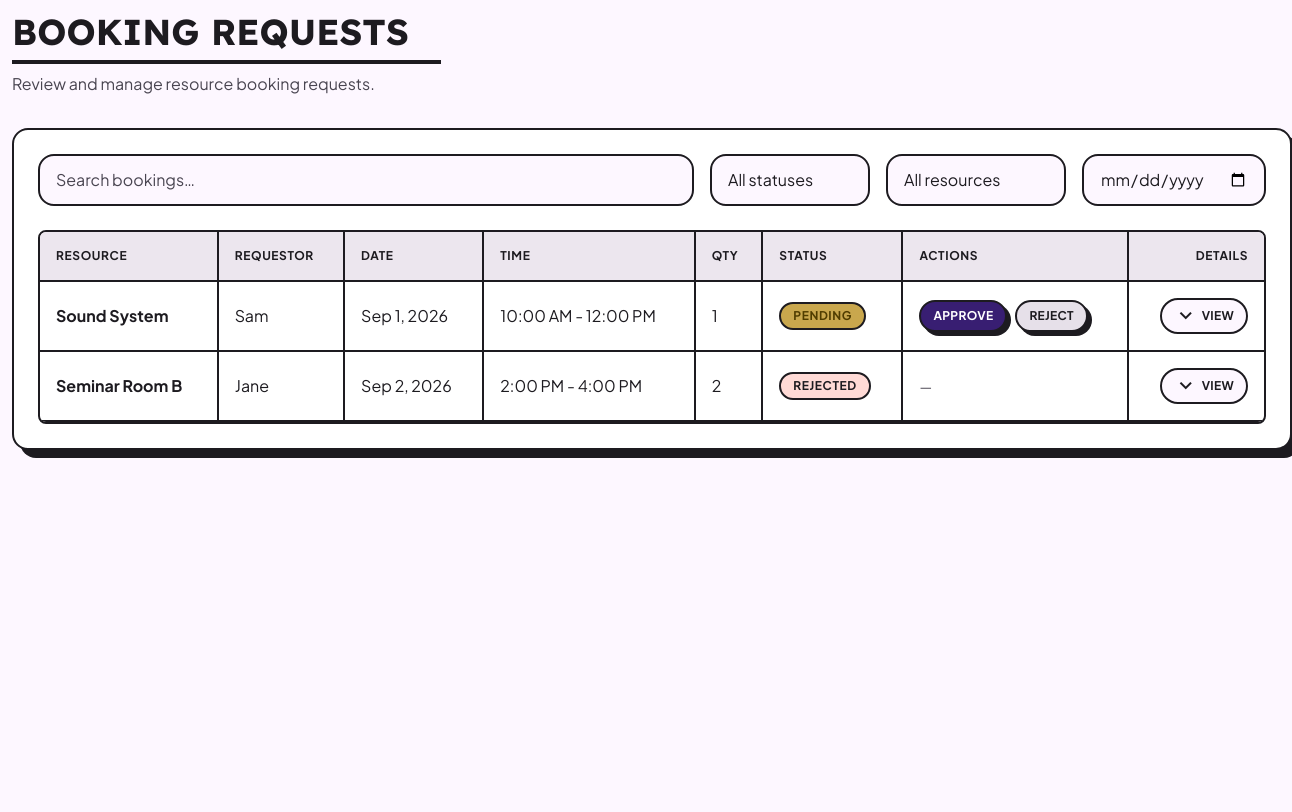
AdminBookingsPage › expands a row to show requestor and booking details
Click the button "View" in the row of "Sound System" at (1204, 316), box [1160,298,1248,334]
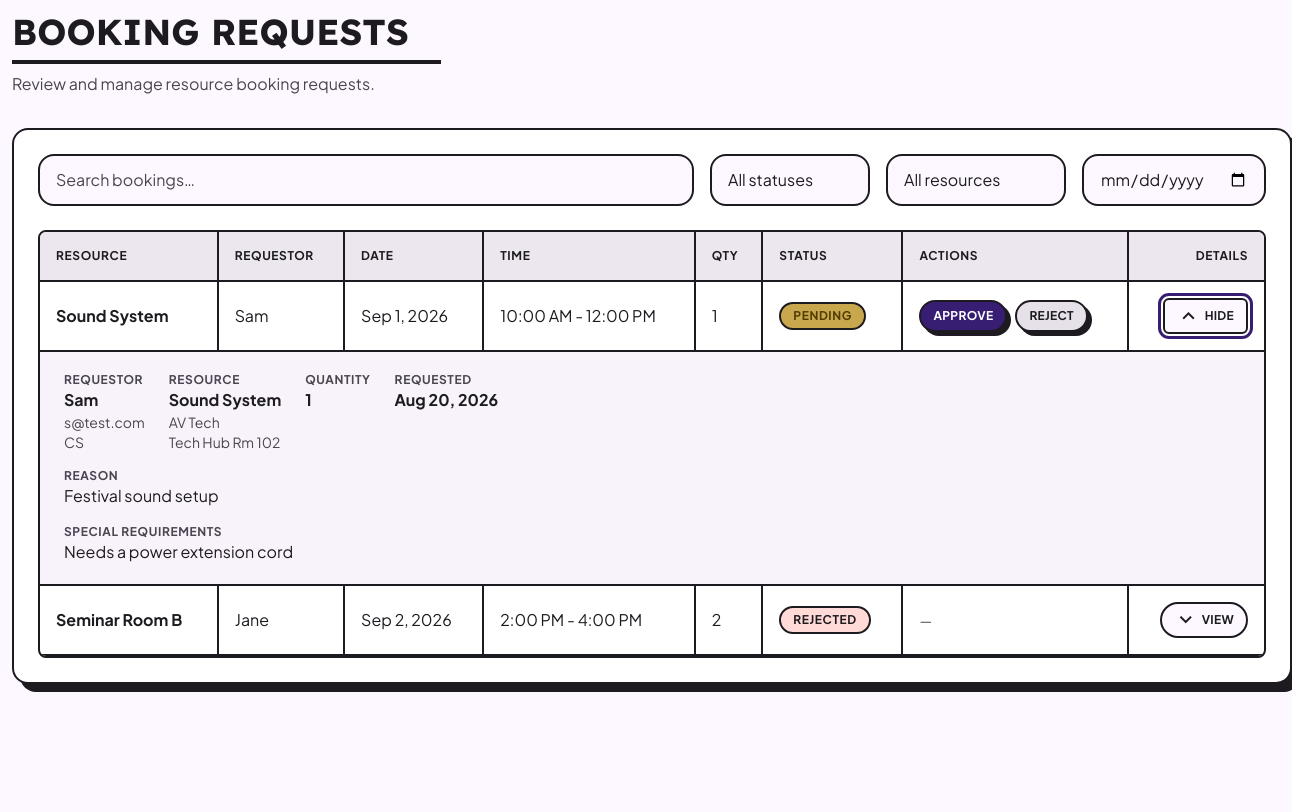
Result: the text "Festival sound setup" is shown at [64,485,219,506]
Result: the text "Needs a power extension cord" is shown at [64,541,293,562]
Result: the text "s@test.com" is shown at [64,412,145,432]
